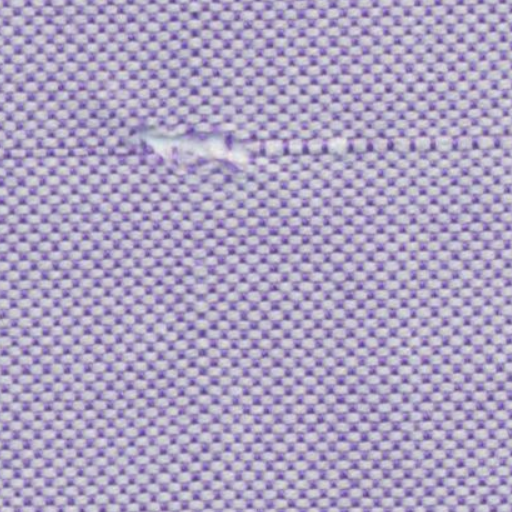PoDong: (113, 110, 272, 196)
